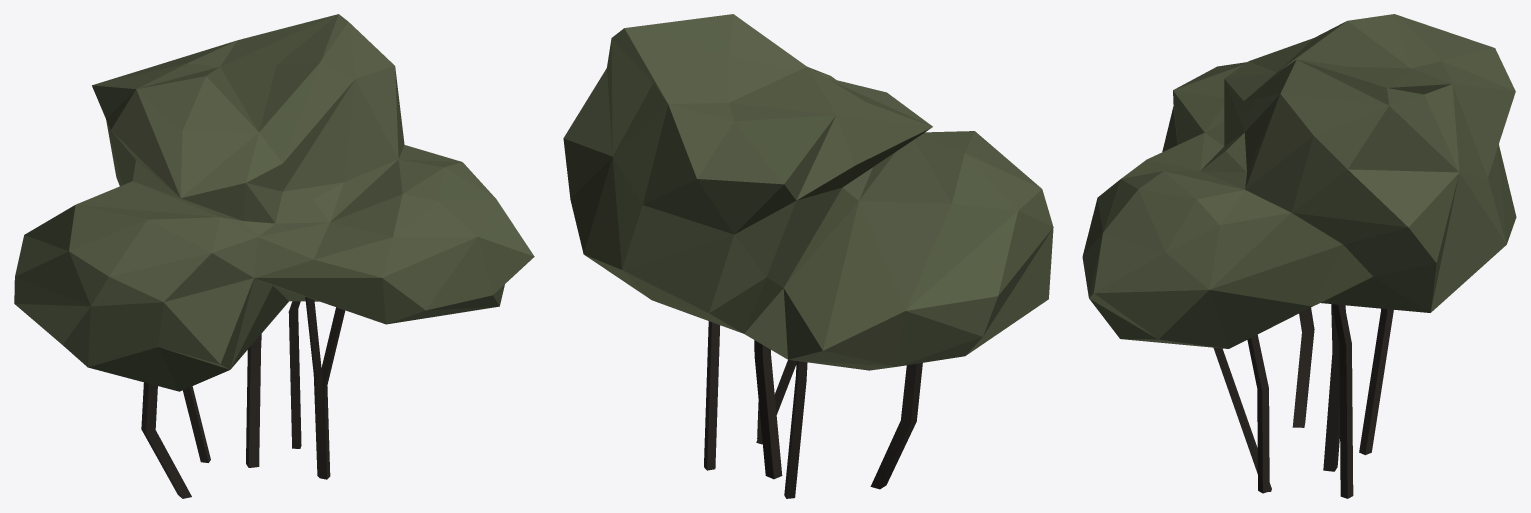
File: nature_SM_Plant_Bush_02.gltf
The picture shows the model from 3 angles, left to right: view 1: azimuth 30°, elevation 25°; view 2: azimuth 150°, elevation 25°; view 3: azimuth 270°, elevation 25°; orthographic projection. The views are drawn at different scales.
Visible parts, largest first — view 1: SM_Plant_Bush_02; view 2: SM_Plant_Bush_02; view 3: SM_Plant_Bush_02.
Boxes of the visible parts, x1,y1,x2,y2 form: SM_Plant_Bush_02: (14,14,534,498); SM_Plant_Bush_02: (563,14,1053,498); SM_Plant_Bush_02: (1082,14,1516,498).
Bounding box in the file's own units: 2.09 × 2 × 1.79.
Materials: 1 (1 with a texture image).
